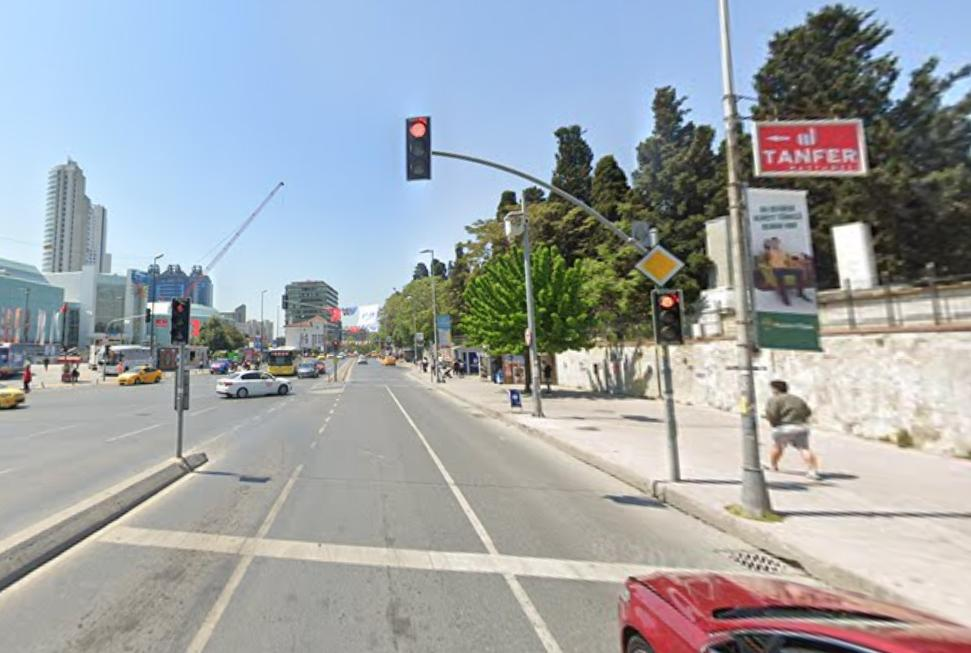redlight: (403, 114, 433, 184), (656, 289, 685, 347), (169, 293, 191, 350)
